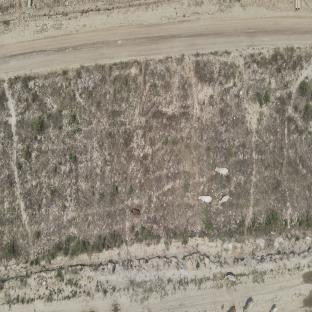slope_drain: (187, 258, 193, 274)
